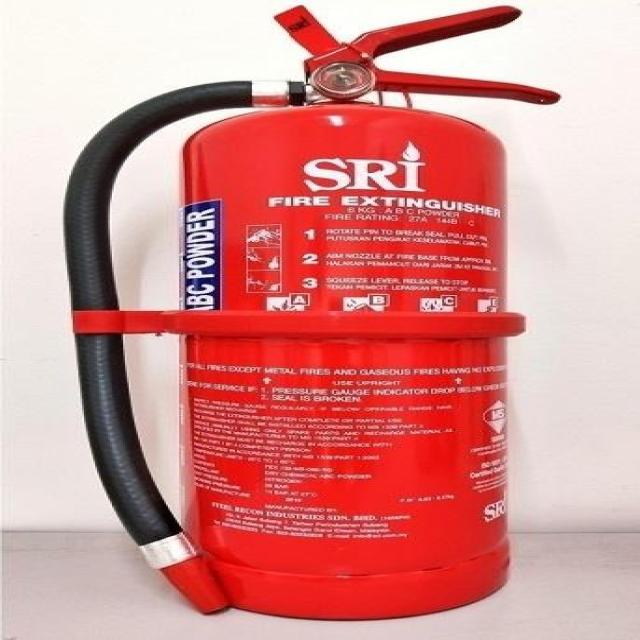fire_extinguisher: (50, 0, 568, 626)
